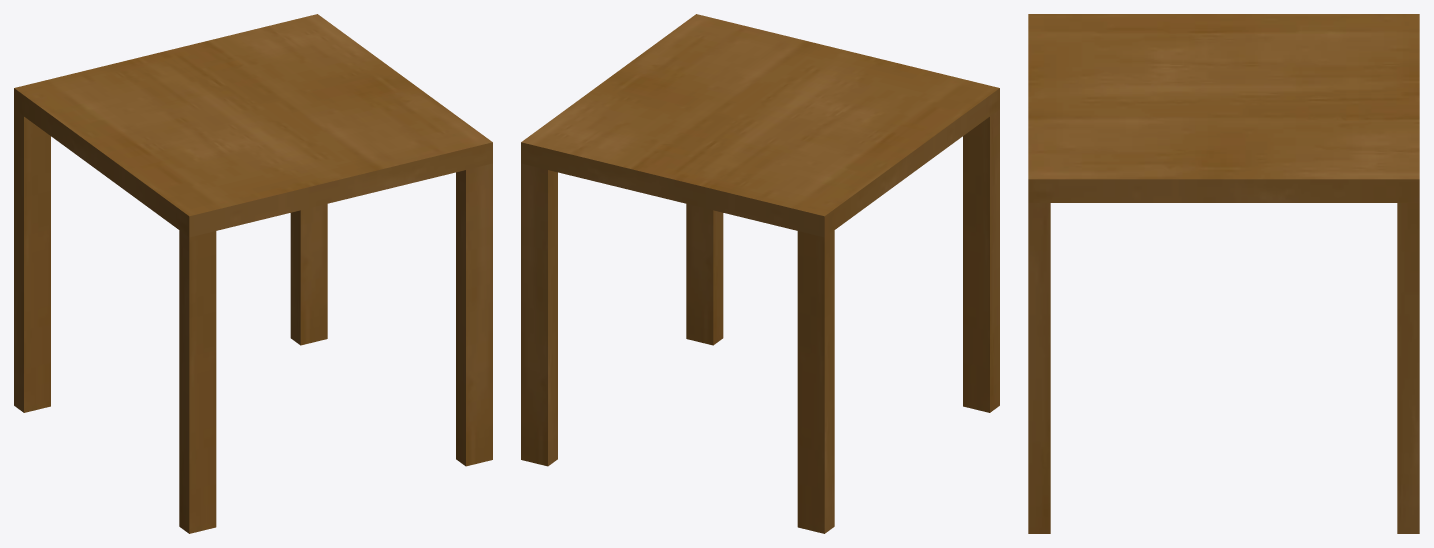
File: sh-scopia-table4.glb
3 views of the same model, side by side, from view 1: azimuth 30°, elevation 25°; view 2: azimuth 150°, elevation 25°; view 3: azimuth 270°, elevation 25° (orthographic). The views are drawn at different scales.
Visible parts, largest first — view 1: fusta_taula_tipical.j_fusta_taula_tipical.j_fusta_taula_tipi; view 2: fusta_taula_tipical.j_fusta_taula_tipical.j_fusta_taula_tipi; view 3: fusta_taula_tipical.j_fusta_taula_tipical.j_fusta_taula_tipi.
Boxes of the visible parts, left/top/right/bottom form: fusta_taula_tipical.j_fusta_taula_tipical.j_fusta_taula_tipi: left=14, top=14, right=492, bottom=533; fusta_taula_tipical.j_fusta_taula_tipical.j_fusta_taula_tipi: left=521, top=14, right=999, bottom=533; fusta_taula_tipical.j_fusta_taula_tipical.j_fusta_taula_tipi: left=1028, top=14, right=1419, bottom=533.
Size of the model in its own units: 1 by 1 by 1.
Materials: 1 (1 with a texture image).
